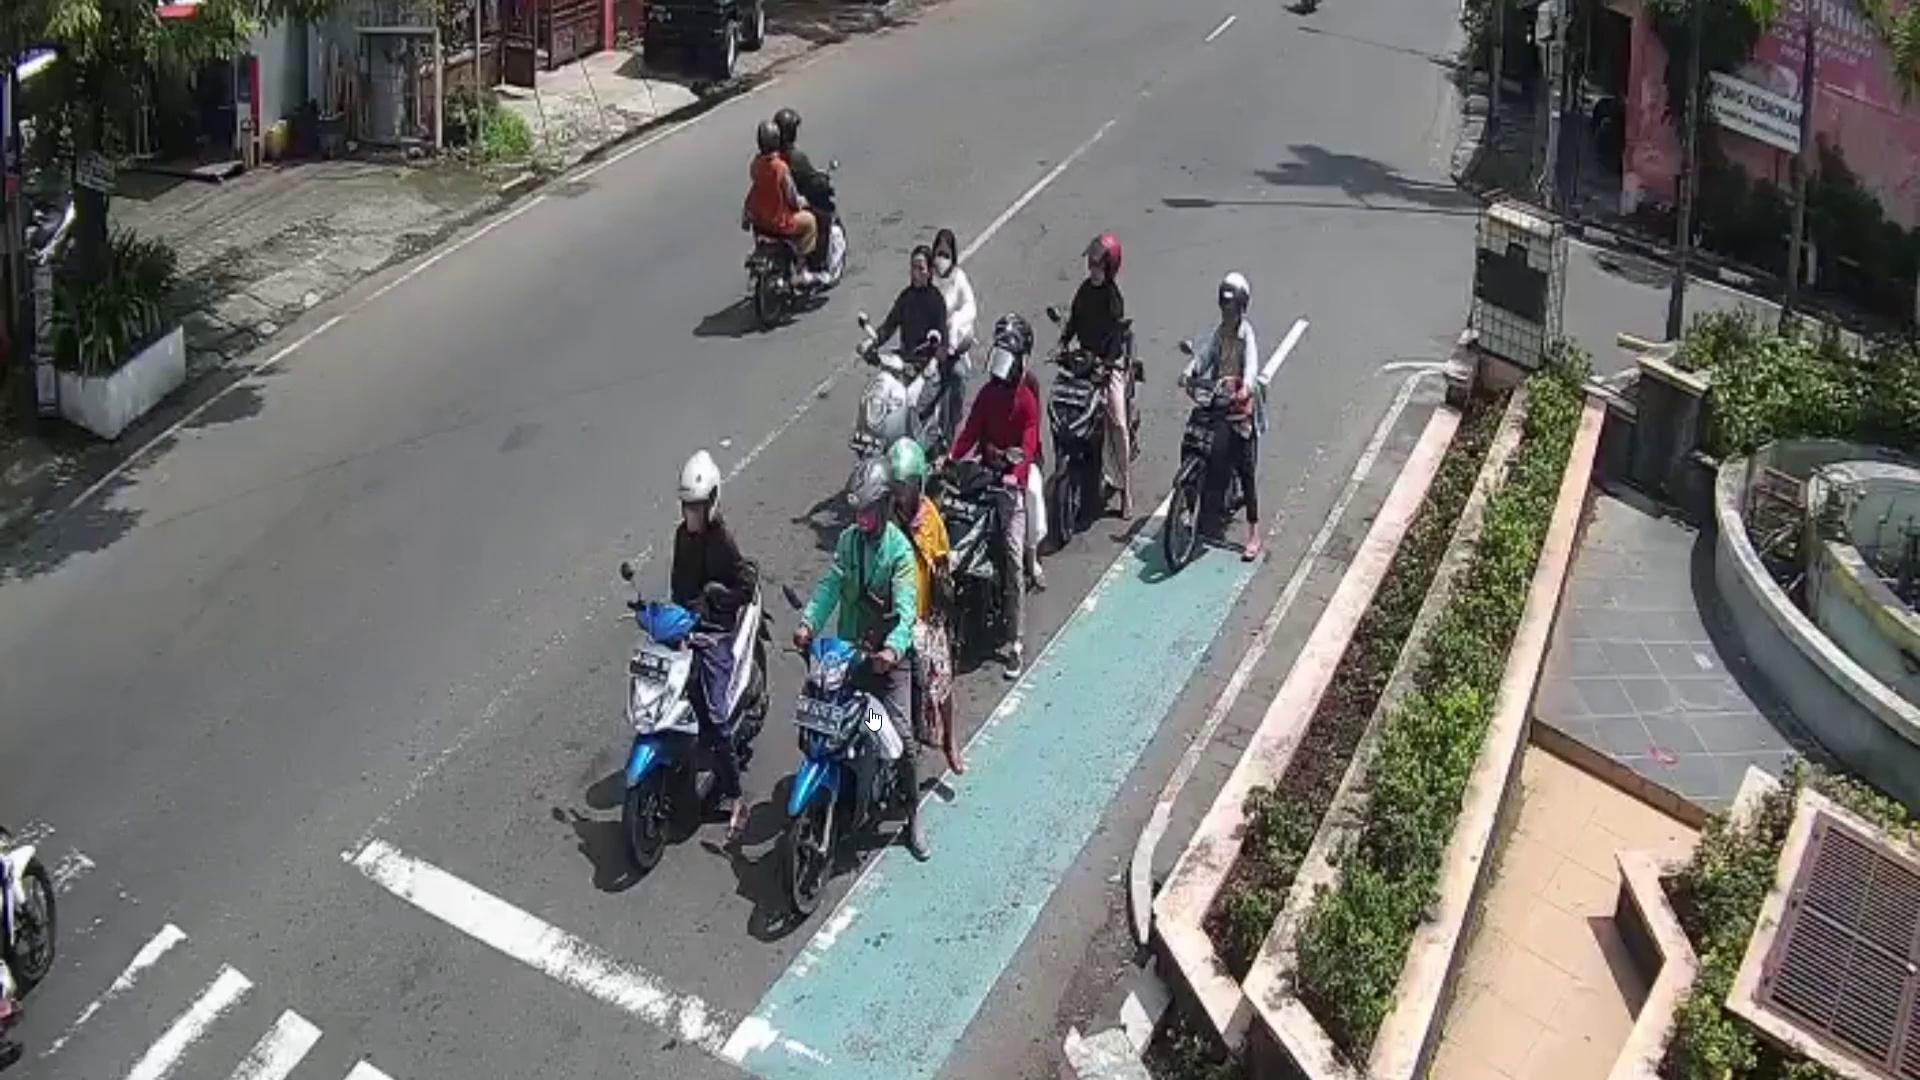motorbike: (616, 550, 777, 872), (781, 588, 923, 922), (1171, 367, 1270, 556), (1052, 345, 1145, 541), (745, 166, 852, 332), (924, 459, 1009, 665), (857, 349, 973, 487)
